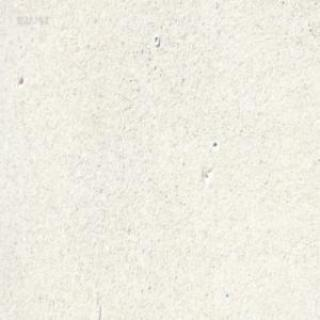Washertrack_idkeyframe: (152, 35, 160, 46)
